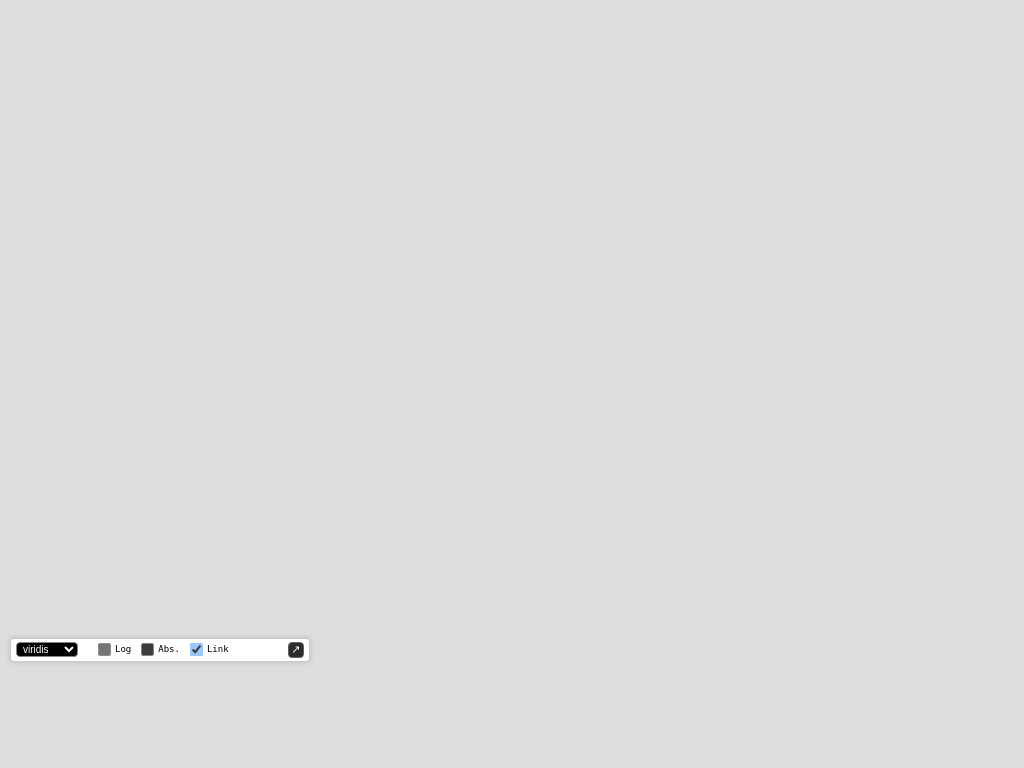
Test case: dialog: normal use › unlinking with edits only applies the edits to the active layer
Later steps or results of the test are not shown.
Click the button with class "dialog-popout-btn" at (296, 650), box [288,642,304,658]
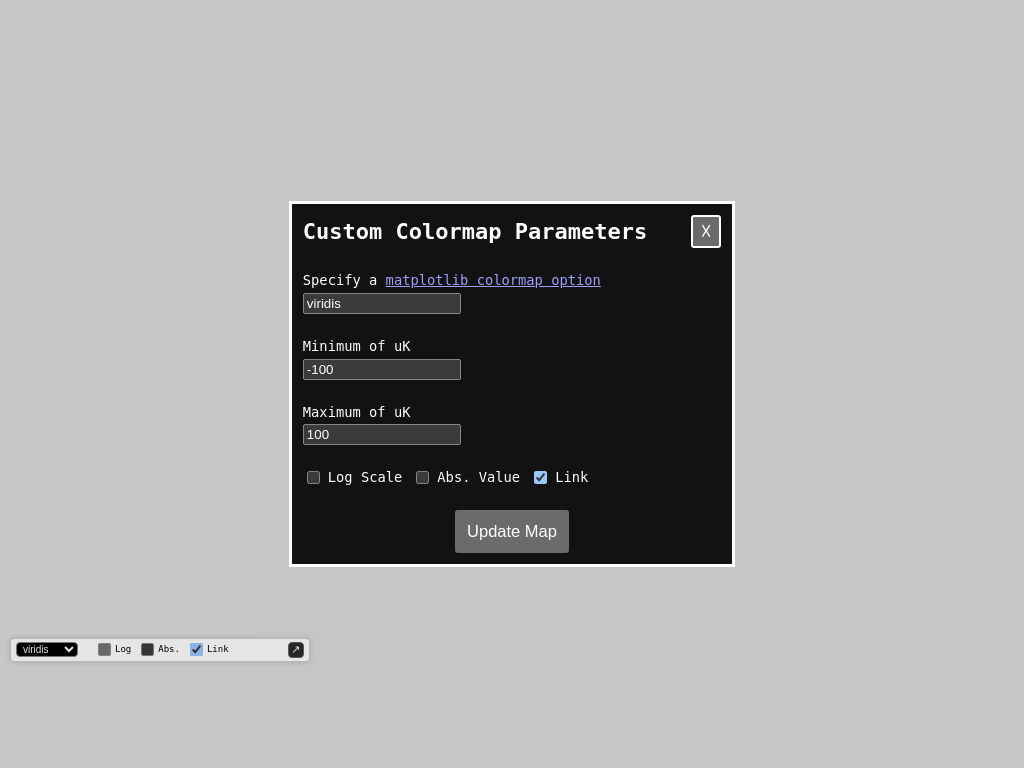
Result: the checkbox labelled "Link" is checked at [534,470,547,485]
